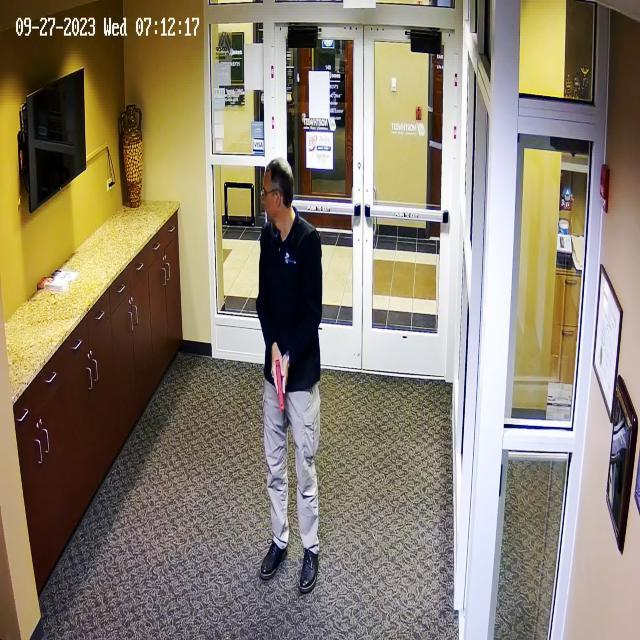Gun: (261, 348, 300, 424)
